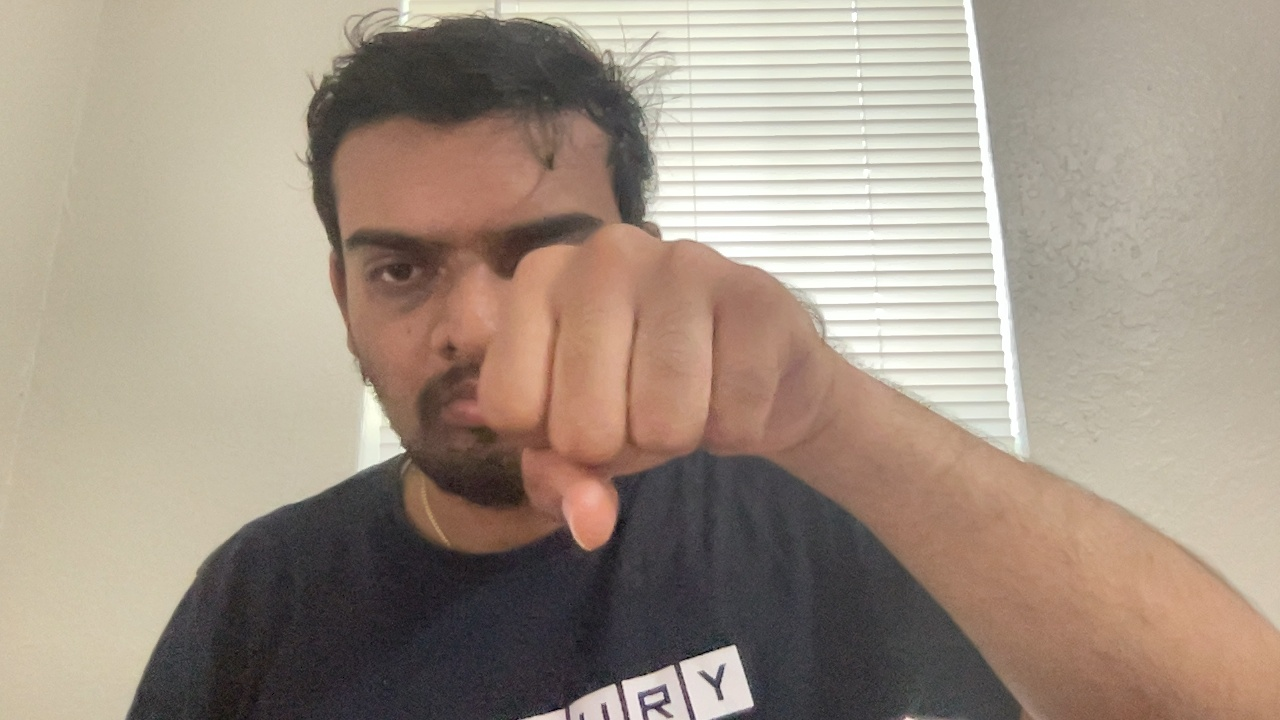yes: (483, 218, 840, 556)
